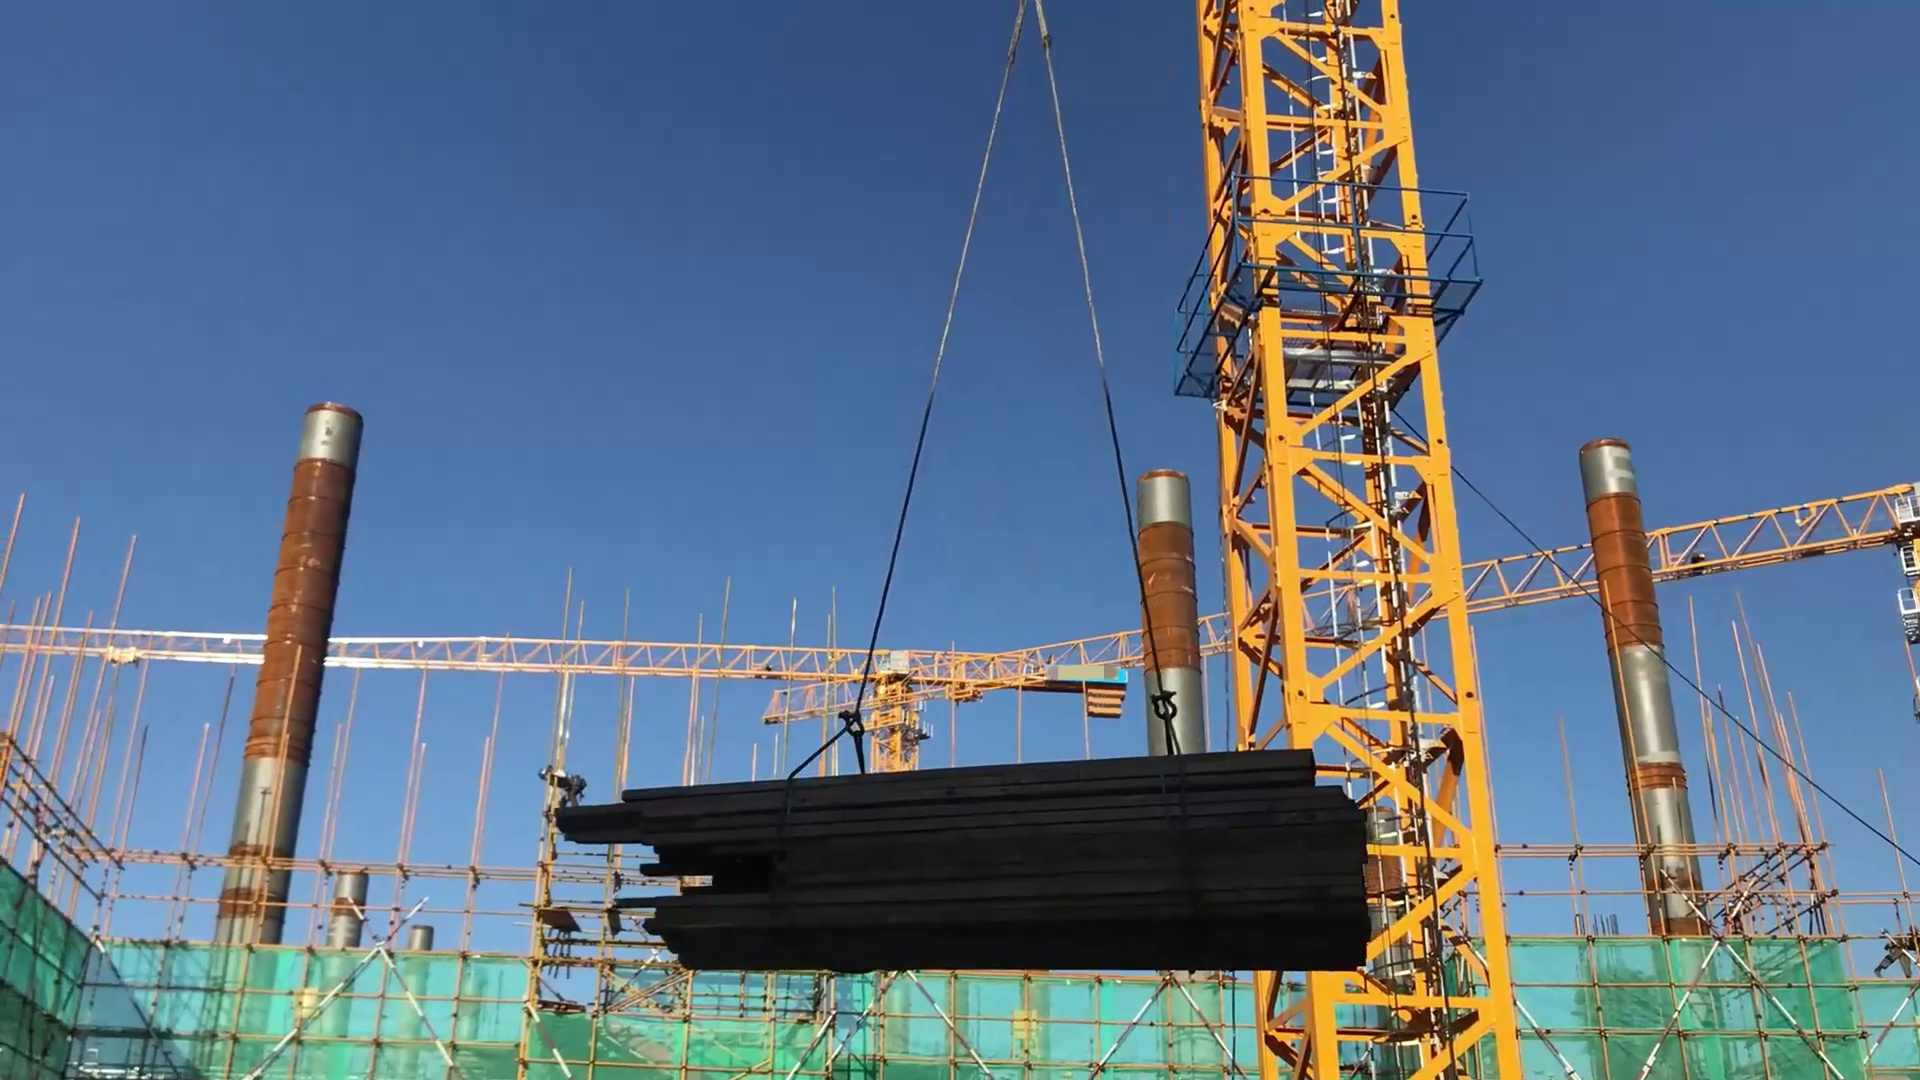wood: (554, 741, 1373, 975)
